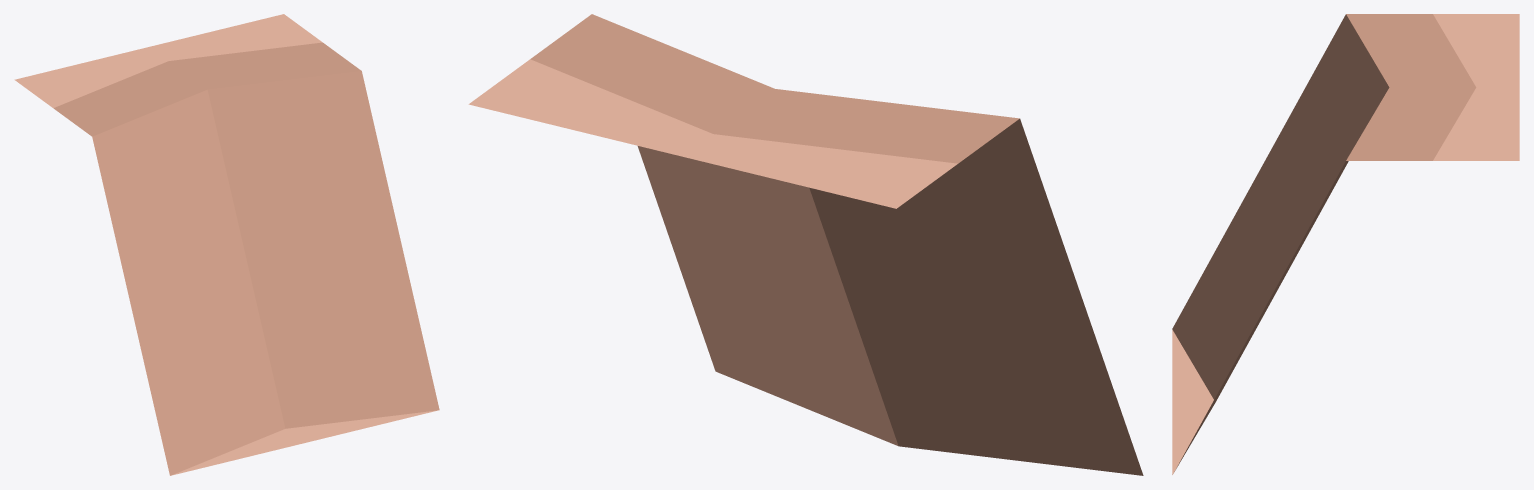
The model's file is terrain_sideCliff.fbx.
3 renders of one model, left to right at view 1: azimuth 30°, elevation 25°; view 2: azimuth 150°, elevation 25°; view 3: azimuth 270°, elevation 25°, orthographic. The views are drawn at different scales.
Visible parts, largest first — view 1: terrain_sideCliff; view 2: terrain_sideCliff; view 3: terrain_sideCliff.
Boxes of the visible parts, box(x1,y1,x2,y2) form: terrain_sideCliff: box(14, 14, 439, 475); terrain_sideCliff: box(468, 14, 1143, 475); terrain_sideCliff: box(1172, 14, 1519, 474).
Bounding box in the file's own units: 100 × 100 × 100.
